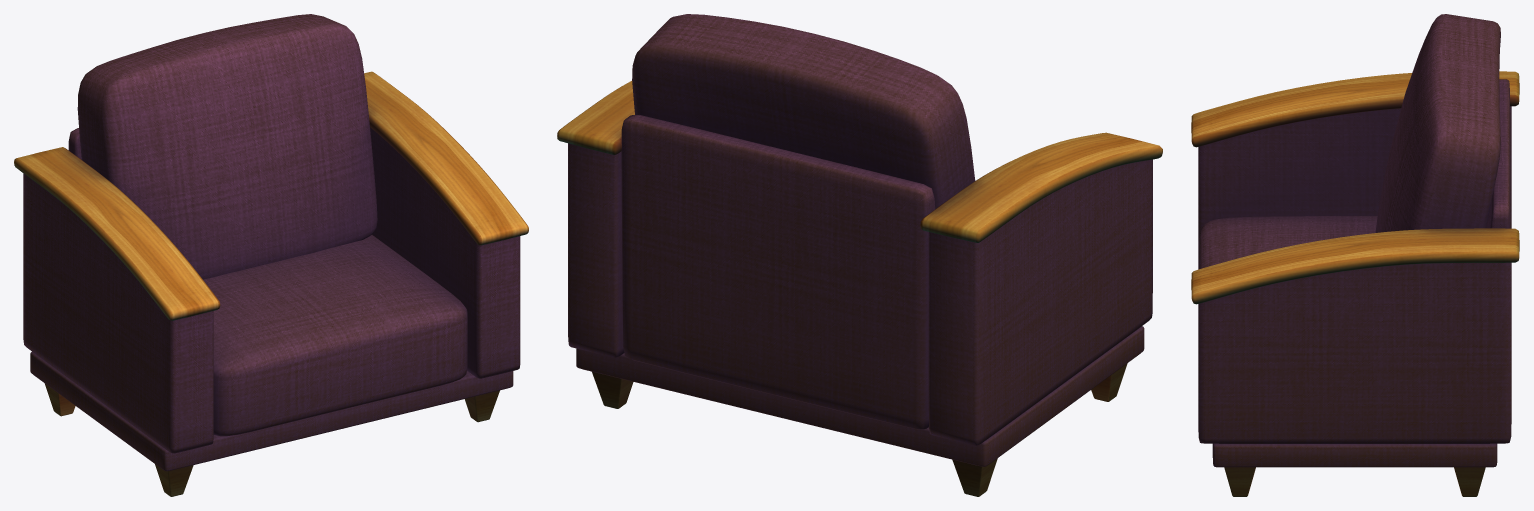
Rendered from armchair-4.glb.
The picture shows the model from 3 angles, left to right: view 1: azimuth 30°, elevation 25°; view 2: azimuth 150°, elevation 25°; view 3: azimuth 270°, elevation 25°; orthographic projection. The views are drawn at different scales.
Parts seen in each view (by area): view 1: Cube.004, Cube.001, Cube, Cube.006, Cube.005, Cube.007; view 2: Cube.003, Cube.001, Cube.004, Cube.006, Cube.005, Cube.007; view 3: Cube.001, Cube.004, Cube.006, Cube.005, Cube, Cube.003, Cube.007.
Boxes of the visible parts, box(x1,y1,x2,y2) form: Cube.004: box(77, 14, 377, 279); Cube.001: box(23, 127, 520, 453); Cube: box(203, 235, 467, 436); Cube.006: box(14, 71, 528, 320); Cube.005: box(30, 352, 513, 471); Cube.007: box(44, 383, 499, 496); Cube.003: box(621, 115, 935, 429); Cube.001: box(568, 143, 1152, 445); Cube.004: box(632, 14, 975, 208); Cube.006: box(557, 81, 1162, 242); Cube.005: box(576, 326, 1144, 466); Cube.007: box(592, 363, 1127, 496); Cube.001: box(1198, 106, 1511, 443); Cube.004: box(1375, 14, 1500, 232); Cube.006: box(1191, 71, 1519, 304); Cube.005: box(1212, 443, 1497, 467); Cube: box(1198, 216, 1377, 269); Cube.003: box(1486, 79, 1510, 228); Cube.007: box(1224, 467, 1485, 496).
Bounding box in the file's own units: 1.1 × 1 × 0.8378.
1 material, 1 textured.
